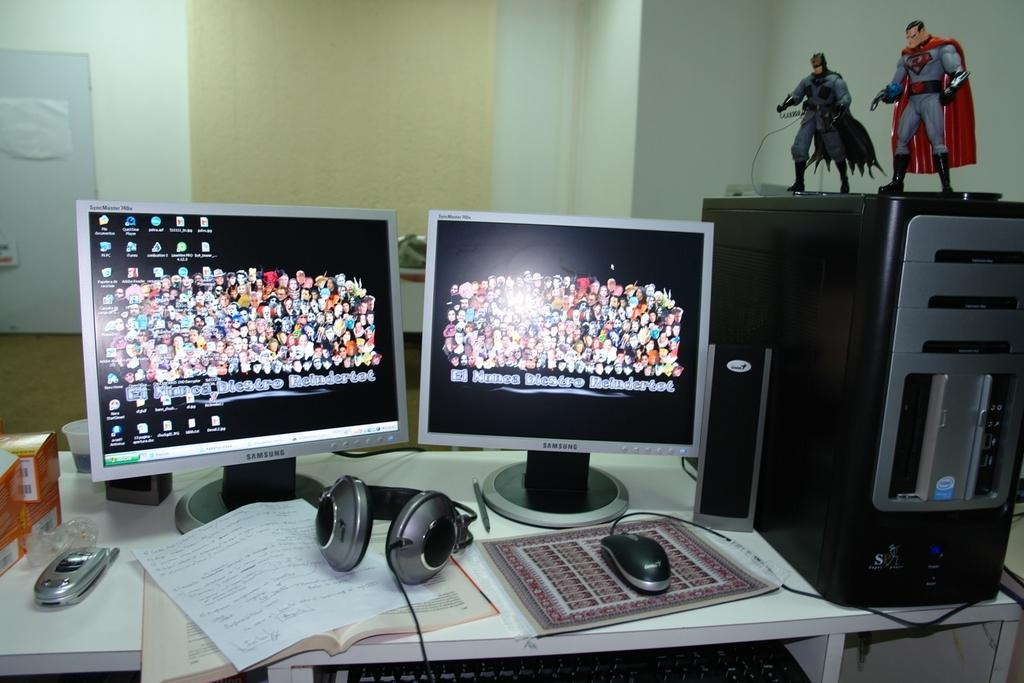Computer-keyboard: (332, 636, 807, 682)
Computer-monitor: (56, 198, 401, 539), (422, 216, 717, 526)
